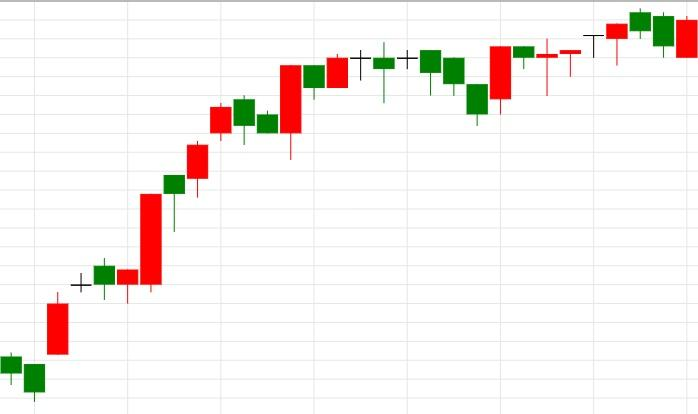evening_star_fall: (257, 42, 396, 161)
